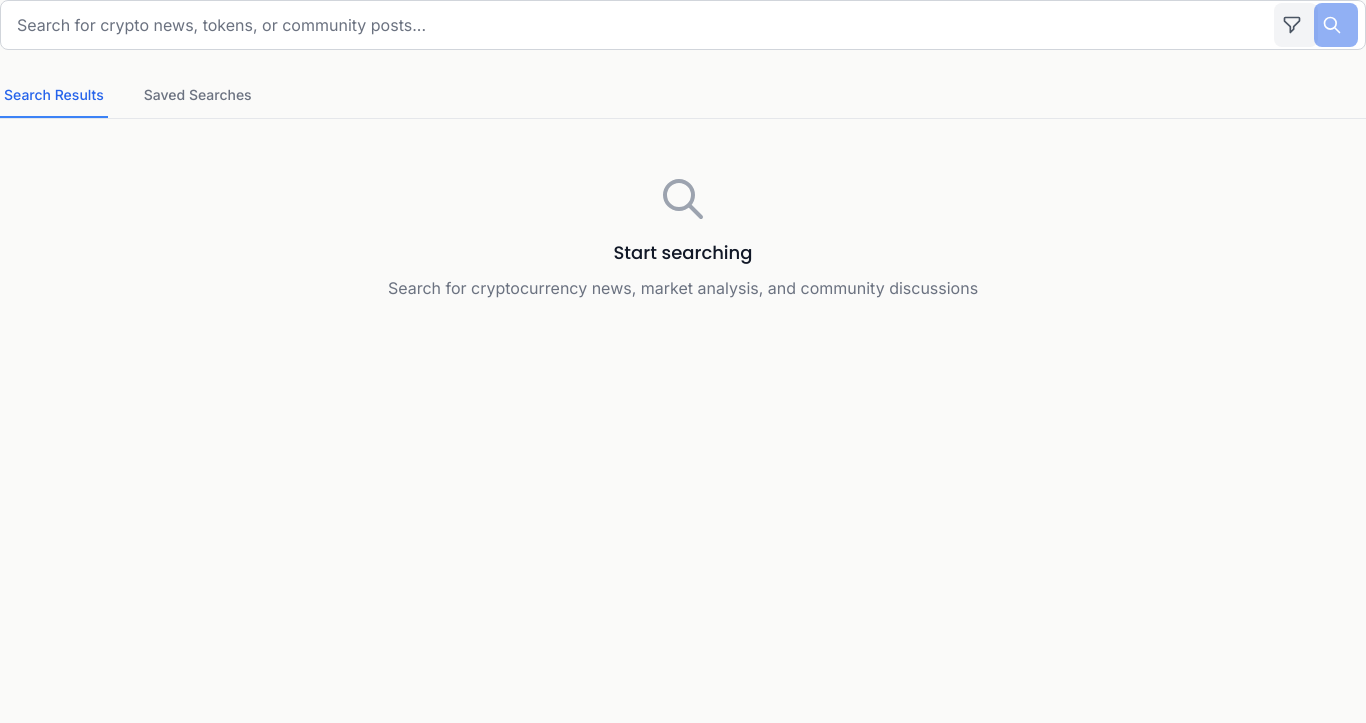
Scenario: SearchInterface Component › 1. Intelligent Search with Autocomplete › should show autocomplete suggestions when typing
Type "bitcoin" into the search field. click: point(683, 25)
box: 0,0 -> 1365,50
(page scrolled)
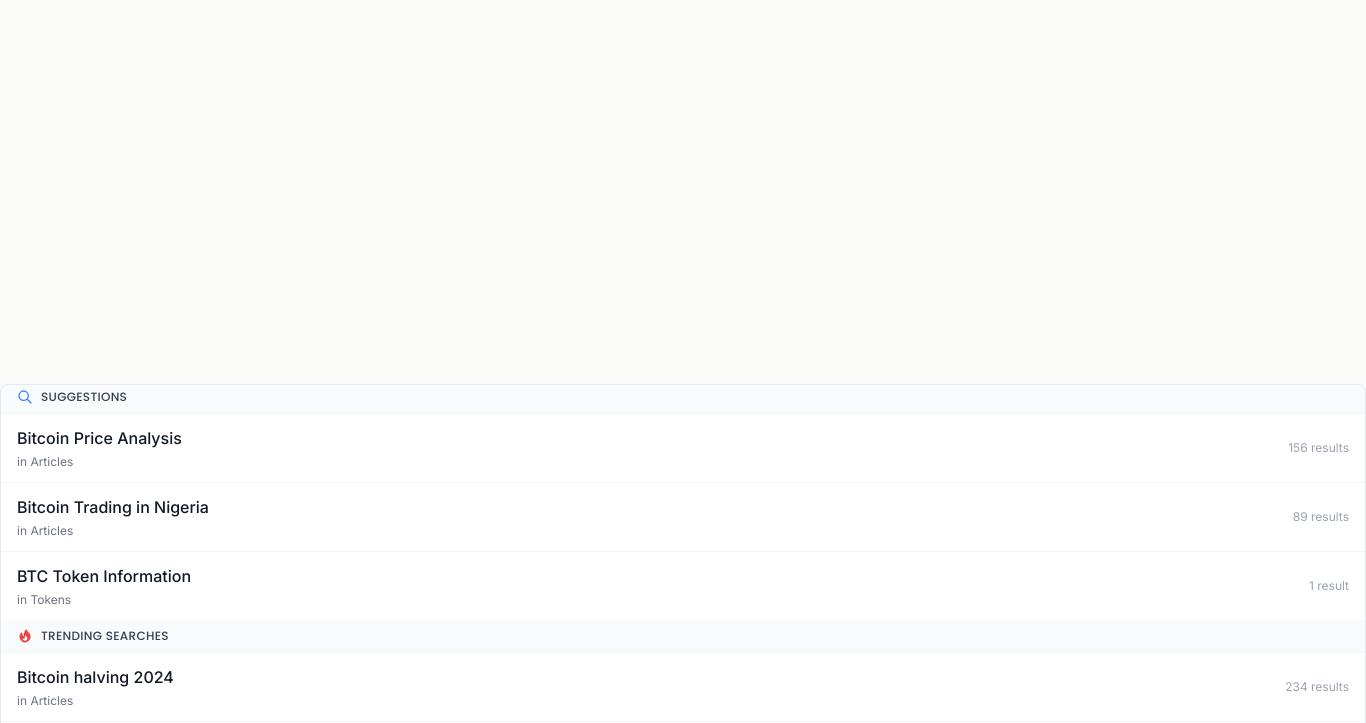
expect the text "Bitcoin Price Analysis" is shown: met, box 17,428 -> 182,448
expect the text "Bitcoin Trading in Nigeria" is shown: met, box 17,497 -> 209,517
expect the text "BTC Token Information" is shown: met, box 17,566 -> 191,586
